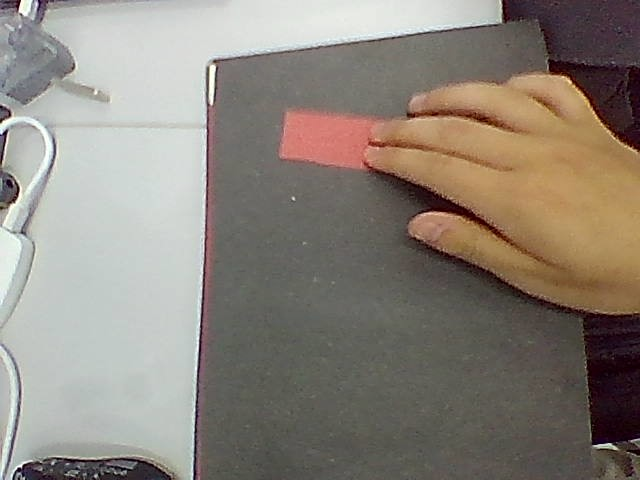card: (279, 110, 376, 169)
